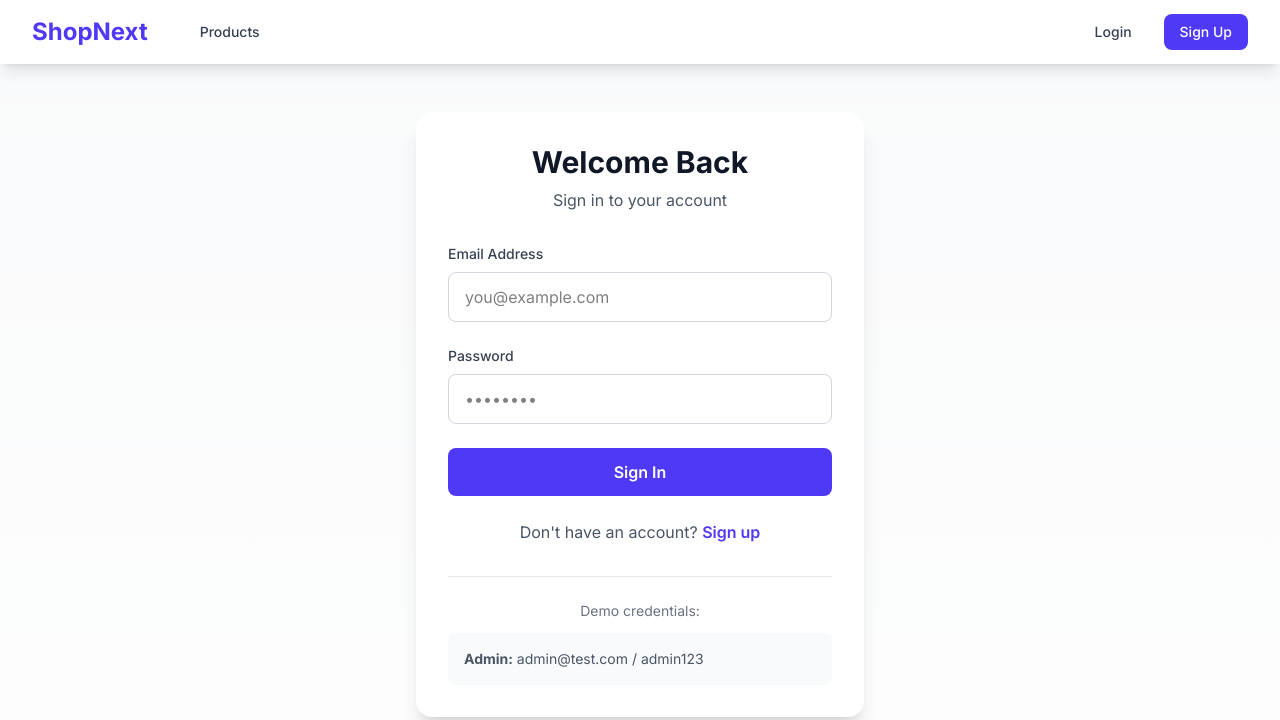
Test: login Page › should navigate to signup page when clicking on Sign Up link
Click the link "Sign Up".
click(1206, 32)  # box x1=1164 y1=14 x2=1248 y2=50
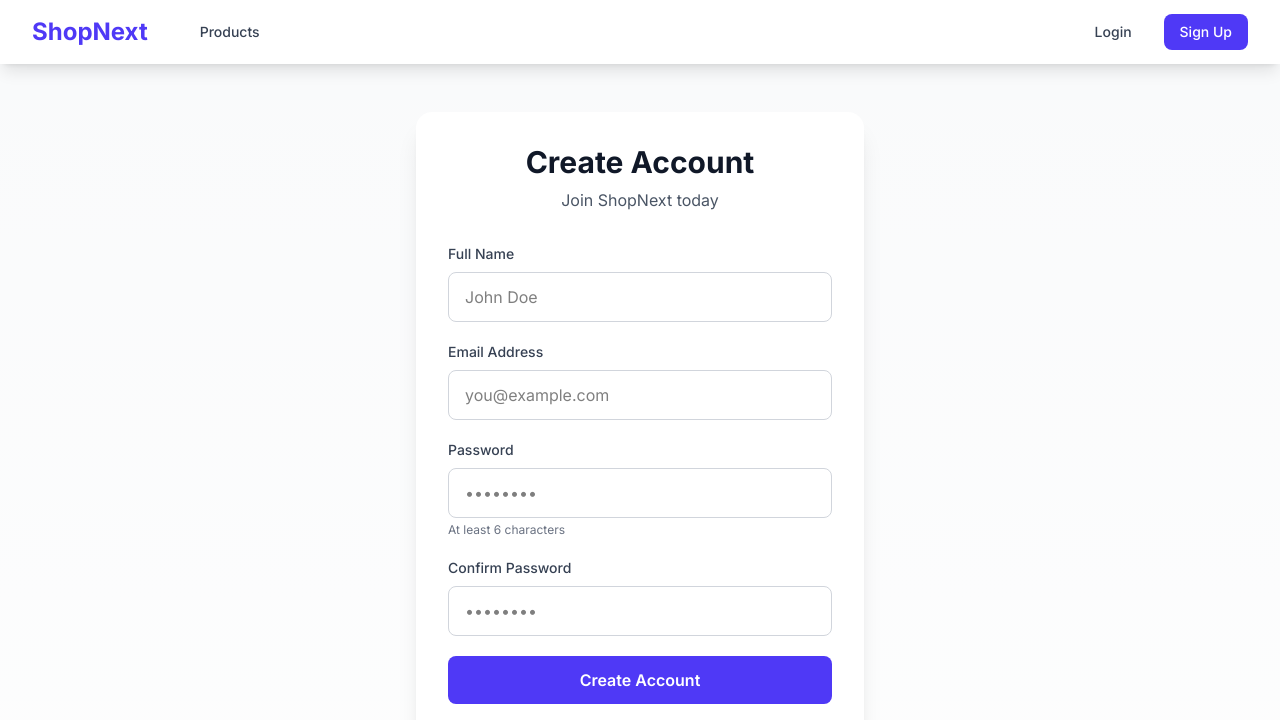
expect the heading "Create Account" is shown: met, box x1=526 y1=144 x2=754 y2=180
